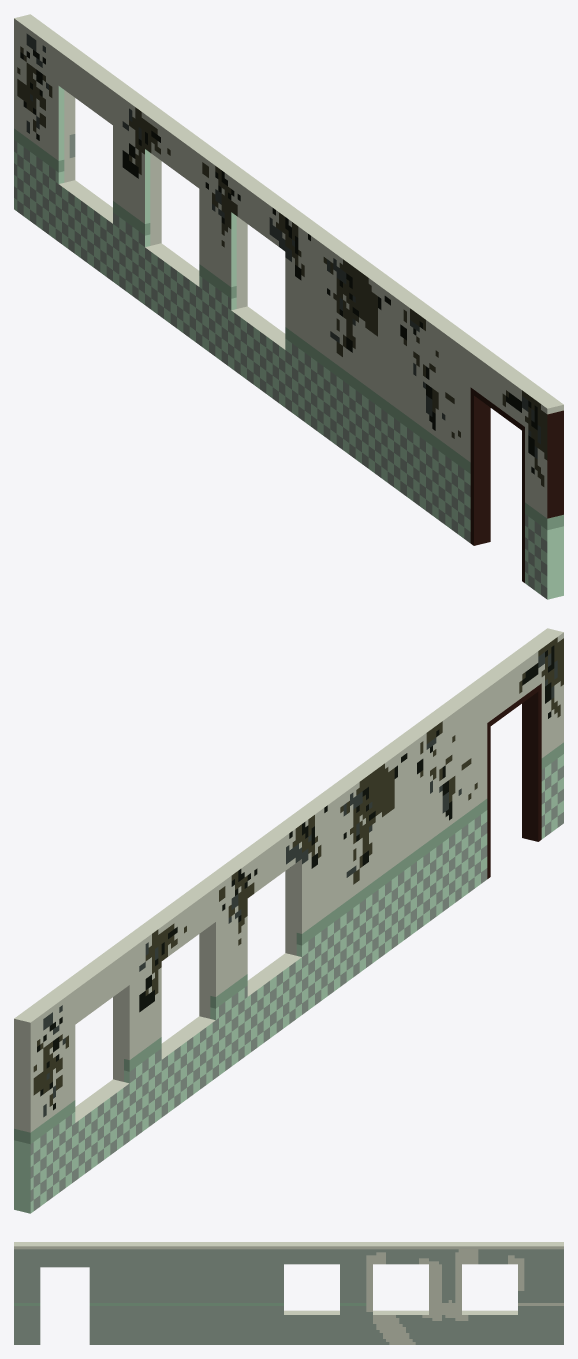
The model's file is wall left.fbx.
The picture shows the model from 3 angles, top to bottom: view 1: azimuth 30°, elevation 25°; view 2: azimuth 150°, elevation 25°; view 3: azimuth 270°, elevation 25°; orthographic projection. The views are drawn at different scales.
Parts seen in each view (by area): view 1: wall left; view 2: wall left; view 3: wall left.
Part boxes in pixels (<box>): wall left: <box>14,14,563,599</box>; wall left: <box>14,628,563,1213</box>; wall left: <box>14,1242,563,1344</box>.
Size of the model in its own units: 3 by 33 by 167.
